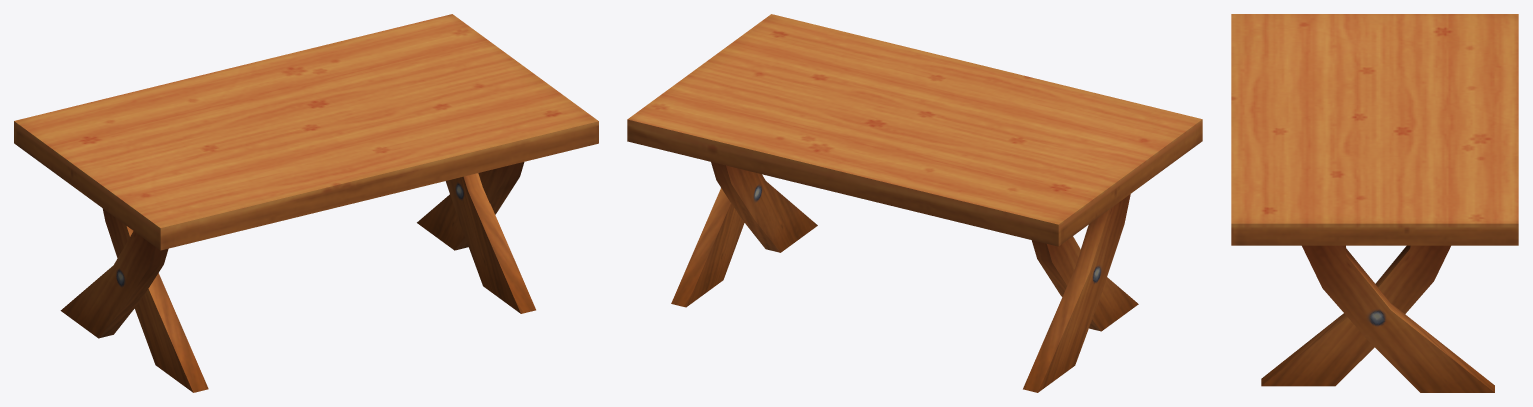
Rendered from desk_01.DAE.
3 renders of one model, left to right at view 1: azimuth 30°, elevation 25°; view 2: azimuth 150°, elevation 25°; view 3: azimuth 270°, elevation 25°, orthographic.
Visible parts, largest first — view 1: desk_01; view 2: desk_01; view 3: desk_01.
Part boxes in pixels (bbox=[...]): desk_01: bbox=[14, 14, 598, 392]; desk_01: bbox=[627, 14, 1202, 392]; desk_01: bbox=[1231, 14, 1518, 392].
Bounding box in the file's own units: 293 × 120 × 169.
